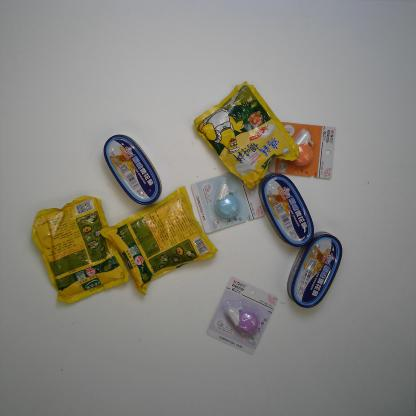Canned Food: (286, 231, 343, 309), (258, 172, 315, 248), (103, 133, 162, 206)
Seasoner: (99, 186, 218, 296), (193, 80, 301, 190), (31, 195, 130, 305)
Stationery: (206, 276, 279, 356), (191, 169, 266, 234), (268, 120, 337, 180)
